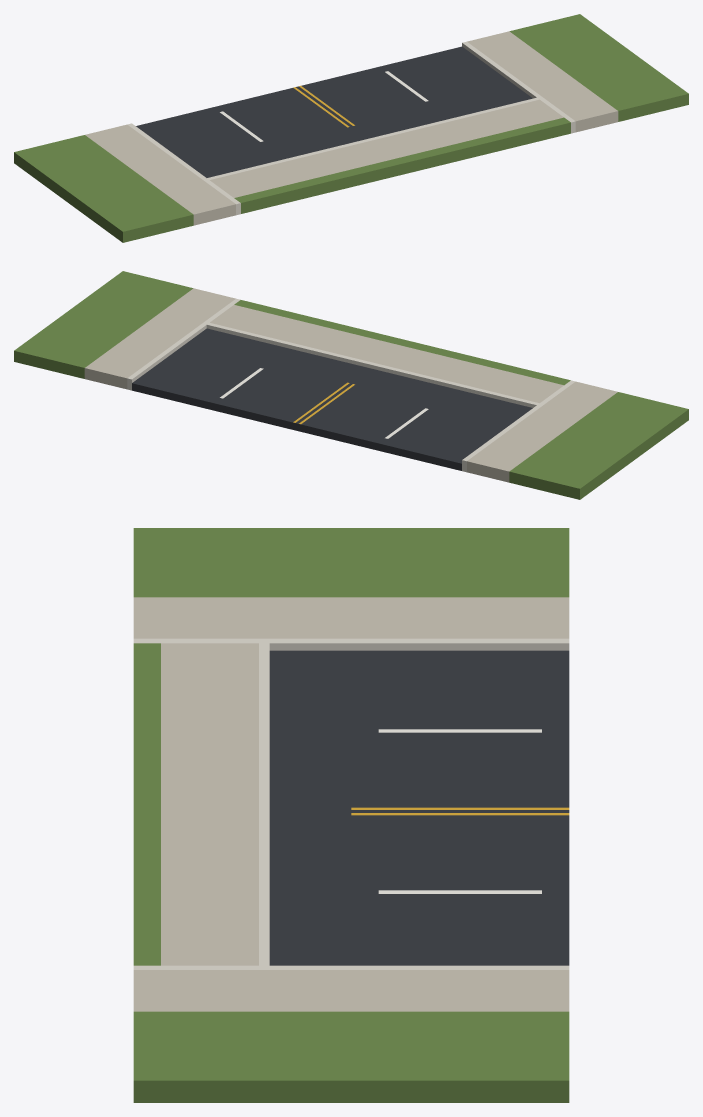
The model's file is Road_4Lane_Sidewalk_EndCap_DeadEnd.glb.
3 views of the same model, one above another, from view 1: azimuth 30°, elevation 25°; view 2: azimuth 150°, elevation 25°; view 3: azimuth 270°, elevation 25° (orthographic). The views are drawn at different scales.
Visible parts, largest first — view 1: Road_4Lane_Sidewalk_EndCap_DeadEnd_Grass-edge, Road_4Lane_Sidewalk_EndCap_DeadEnd_Asphalt, Road_4Lane_Sidewalk_EndCap_DeadEnd_Sidewalk, Road_4Lane_Sidewalk_EndCap_DeadEnd_Curb; view 2: Road_4Lane_Sidewalk_EndCap_DeadEnd_Asphalt, Road_4Lane_Sidewalk_EndCap_DeadEnd_Grass-edge, Road_4Lane_Sidewalk_EndCap_DeadEnd_Sidewalk, Road_4Lane_Sidewalk_EndCap_DeadEnd_Curb; view 3: Road_4Lane_Sidewalk_EndCap_DeadEnd_Asphalt, Road_4Lane_Sidewalk_EndCap_DeadEnd_Grass-edge, Road_4Lane_Sidewalk_EndCap_DeadEnd_Sidewalk, Road_4Lane_Sidewalk_EndCap_DeadEnd_Curb, Road_4Lane_Sidewalk_EndCap_DeadEnd_PaintYellow, Road_4Lane_Sidewalk_EndCap_DeadEnd_PaintWhite.
Part boxes in pixels (x1,y1,x2,y2): Road_4Lane_Sidewalk_EndCap_DeadEnd_Grass-edge: (14,14,688,242); Road_4Lane_Sidewalk_EndCap_DeadEnd_Asphalt: (136,46,532,177); Road_4Lane_Sidewalk_EndCap_DeadEnd_Sidewalk: (85,31,618,225); Road_4Lane_Sidewalk_EndCap_DeadEnd_Curb: (127,41,575,215); Road_4Lane_Sidewalk_EndCap_DeadEnd_Asphalt: (132,328,532,470); Road_4Lane_Sidewalk_EndCap_DeadEnd_Grass-edge: (14,271,688,499); Road_4Lane_Sidewalk_EndCap_DeadEnd_Sidewalk: (84,288,617,482); Road_4Lane_Sidewalk_EndCap_DeadEnd_Curb: (127,298,575,472); Road_4Lane_Sidewalk_EndCap_DeadEnd_Asphalt: (269,650,569,965); Road_4Lane_Sidewalk_EndCap_DeadEnd_Grass-edge: (133,528,569,1102); Road_4Lane_Sidewalk_EndCap_DeadEnd_Sidewalk: (133,597,569,1011); Road_4Lane_Sidewalk_EndCap_DeadEnd_Curb: (133,638,569,969); Road_4Lane_Sidewalk_EndCap_DeadEnd_PaintYellow: (351,807,569,815); Road_4Lane_Sidewalk_EndCap_DeadEnd_PaintWhite: (378,729,541,893).
Bounding box in the file's own units: 24 × 0.45 × 8.
